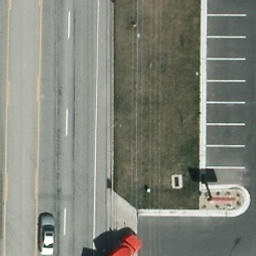car: (40, 213, 57, 253)
